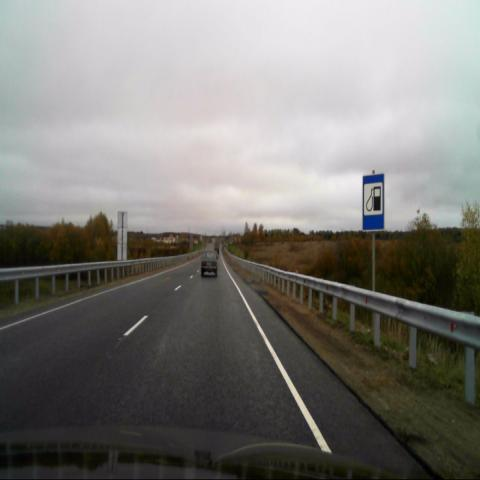7_3: (362, 174, 385, 232)
